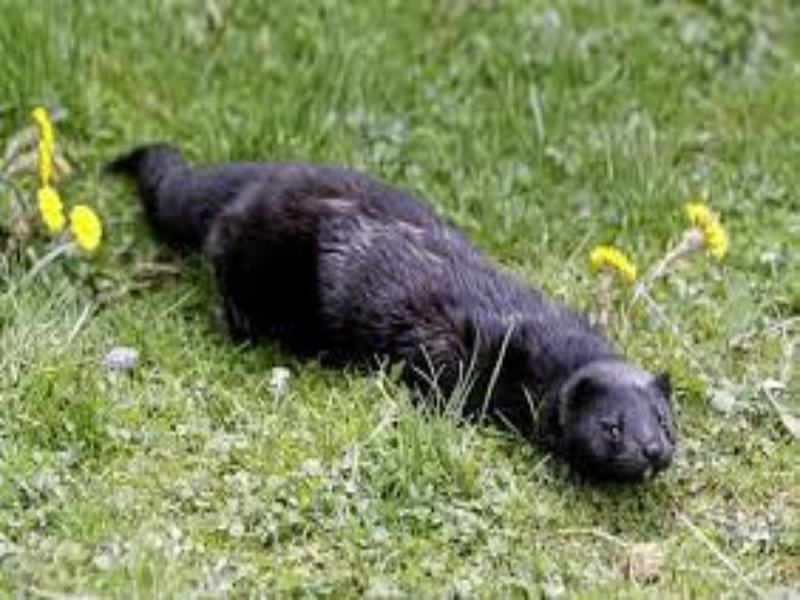minkish: (98, 137, 681, 489)
